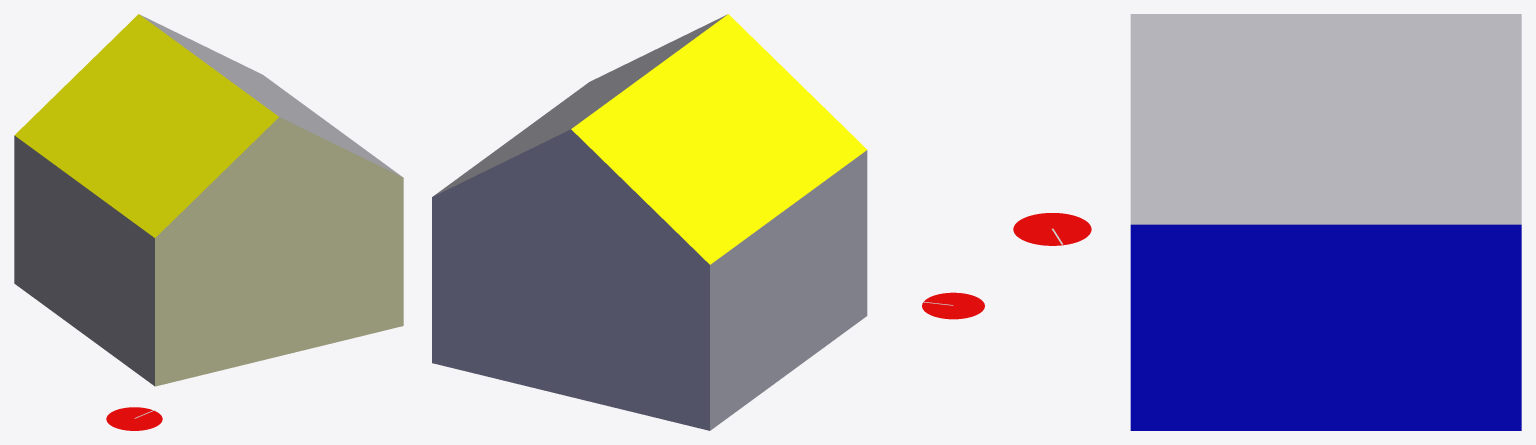
File: result.glb
The picture shows the model from 3 angles, left to right: view 1: azimuth 30°, elevation 25°; view 2: azimuth 150°, elevation 25°; view 3: azimuth 270°, elevation 25°; orthographic projection. The views are drawn at different scales.
Parts seen in each view (by area): view 1: 2c7bb338-7cd0-4063-94ae-0f37dd3282e8__undefined, 680c483a-0832-442a-a988-7fe51b6228d2__undefined, afe879ac-4f58-488b-8aac-5d76e7c8b1cc__undefined, b6a94c38-0795-4096-8050-01aad759bc28__undefined, c7b3f127-1b65-4fce-b5fb-5101bedd8651__Circle; view 2: b0cd584b-47e6-4de6-825e-40b5d2a7b478__undefined, 680c483a-0832-442a-a988-7fe51b6228d2__undefined, afe879ac-4f58-488b-8aac-5d76e7c8b1cc__undefined, b6a94c38-0795-4096-8050-01aad759bc28__undefined, c7b3f127-1b65-4fce-b5fb-5101bedd8651__Circle; view 3: b6a94c38-0795-4096-8050-01aad759bc28__undefined, 830a3c35-3250-49a7-a0e0-4115503ada1d__undefined, c7b3f127-1b65-4fce-b5fb-5101bedd8651__Circle.
Part boxes in pixels (x1=…): 2c7bb338-7cd0-4063-94ae-0f37dd3282e8__undefined: x1=155, y1=117, x2=403, y2=386; 680c483a-0832-442a-a988-7fe51b6228d2__undefined: x1=14, y1=14, x2=278, y2=237; afe879ac-4f58-488b-8aac-5d76e7c8b1cc__undefined: x1=14, y1=135, x2=154, y2=386; b6a94c38-0795-4096-8050-01aad759bc28__undefined: x1=139, y1=14, x2=401, y2=176; c7b3f127-1b65-4fce-b5fb-5101bedd8651__Circle: x1=106, y1=407, x2=162, y2=430; b0cd584b-47e6-4de6-825e-40b5d2a7b478__undefined: x1=432, y1=129, x2=709, y2=430; 680c483a-0832-442a-a988-7fe51b6228d2__undefined: x1=571, y1=14, x2=867, y2=264; afe879ac-4f58-488b-8aac-5d76e7c8b1cc__undefined: x1=710, y1=150, x2=867, y2=430; b6a94c38-0795-4096-8050-01aad759bc28__undefined: x1=433, y1=14, x2=727, y2=196; c7b3f127-1b65-4fce-b5fb-5101bedd8651__Circle: x1=922, y1=292, x2=984, y2=319; b6a94c38-0795-4096-8050-01aad759bc28__undefined: x1=1130, y1=14, x2=1521, y2=224; 830a3c35-3250-49a7-a0e0-4115503ada1d__undefined: x1=1130, y1=224, x2=1521, y2=430; c7b3f127-1b65-4fce-b5fb-5101bedd8651__Circle: x1=1013, y1=213, x2=1091, y2=245.
Size of the model in its own units: 660 by 469 by 650.
